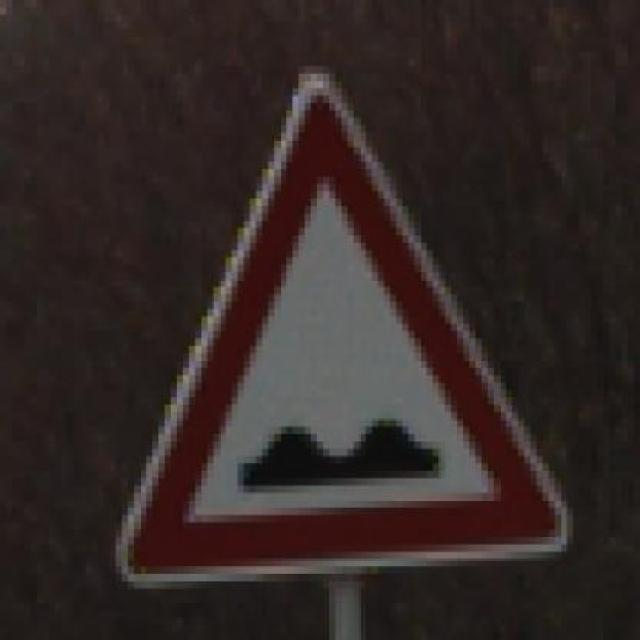Uneven Road: (92, 52, 586, 596)
